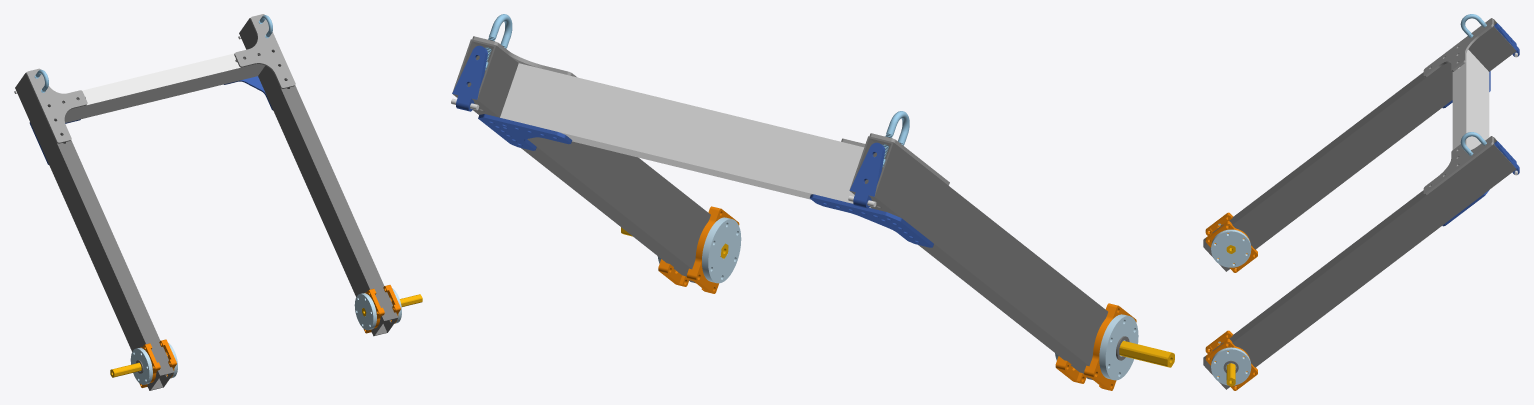
3 renders of one model, left to right at view 1: azimuth 30°, elevation 25°; view 2: azimuth 150°, elevation 25°; view 3: azimuth 270°, elevation 25°, orthographic. The views are drawn at different scales.
Parts seen in each view (by area): view 1: 03_ARM_DRIVER_LINK (×2), 03_CLOSEOUT_2X1, AM-4158_1IN_TEE_GUSSET (×2), TTB-0005_HALFINCHHEXHUB (×2); view 2: 03_ARM_DRIVER_LINK (×2), 03_CLOSEOUT_2X1, TTB-0005_HALFINCHHEXHUB (×2), REV-21-1580 (×2), CSK_FOR__10_FLAT_HEAD_MACH-1306 (×2), THRIFTYCLAMPINGBEARINGBLOCK (×2), 03_ARM_PIVOT_SHAFT; view 3: 03_ARM_DRIVER_LINK (×2), 03_CLOSEOUT_2X1, TTB-0005_HALFINCHHEXHUB (×2), AM-4158_1IN_TEE_GUSSET (×2), THRIFTYCLAMPINGBEARINGBLOCK (×2).
Boxes of the visible parts, box(x1,y1,x2,y2) form: 03_ARM_DRIVER_LINK (×2): box(15, 18, 398, 390); 03_CLOSEOUT_2X1: box(62, 53, 264, 122); AM-4158_1IN_TEE_GUSSET (×2): box(26, 14, 295, 143); TTB-0005_HALFINCHHEXHUB (×2): box(130, 293, 376, 384); 03_ARM_DRIVER_LINK (×2): box(452, 39, 1107, 379); 03_CLOSEOUT_2X1: box(500, 63, 870, 207); TTB-0005_HALFINCHHEXHUB (×2): box(702, 217, 1138, 380); REV-21-1580 (×2): box(478, 114, 933, 247); CSK_FOR__10_FLAT_HEAD_MACH-1306 (×2): box(452, 45, 885, 208); THRIFTYCLAMPINGBEARINGBLOCK (×2): box(686, 206, 1136, 390); 03_ARM_PIVOT_SHAFT: box(1119, 341, 1174, 367); 03_ARM_DRIVER_LINK (×2): box(1203, 19, 1516, 389); 03_CLOSEOUT_2X1: box(1452, 49, 1489, 149); TTB-0005_HALFINCHHEXHUB (×2): box(1211, 229, 1251, 385); AM-4158_1IN_TEE_GUSSET (×2): box(1423, 18, 1493, 195); THRIFTYCLAMPINGBEARINGBLOCK (×2): box(1205, 221, 1257, 390).
Size of the model in its own units: 0.5461 by 0.3986 by 0.45.
